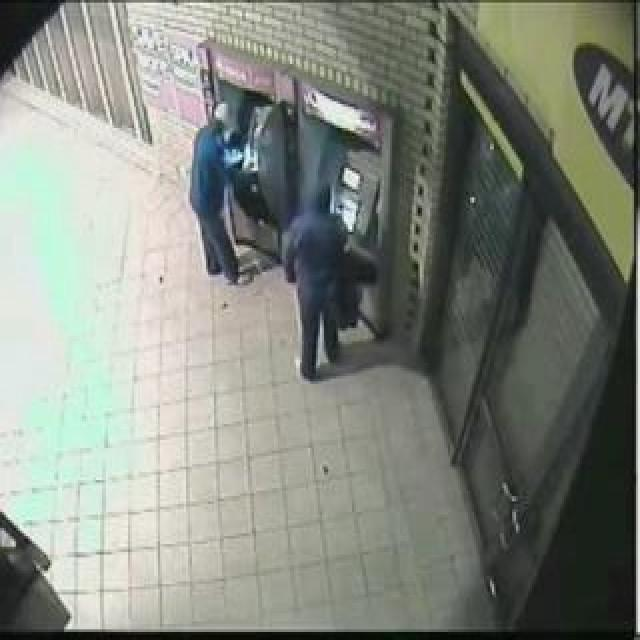thief: (279, 159, 356, 265), (192, 82, 235, 169)
